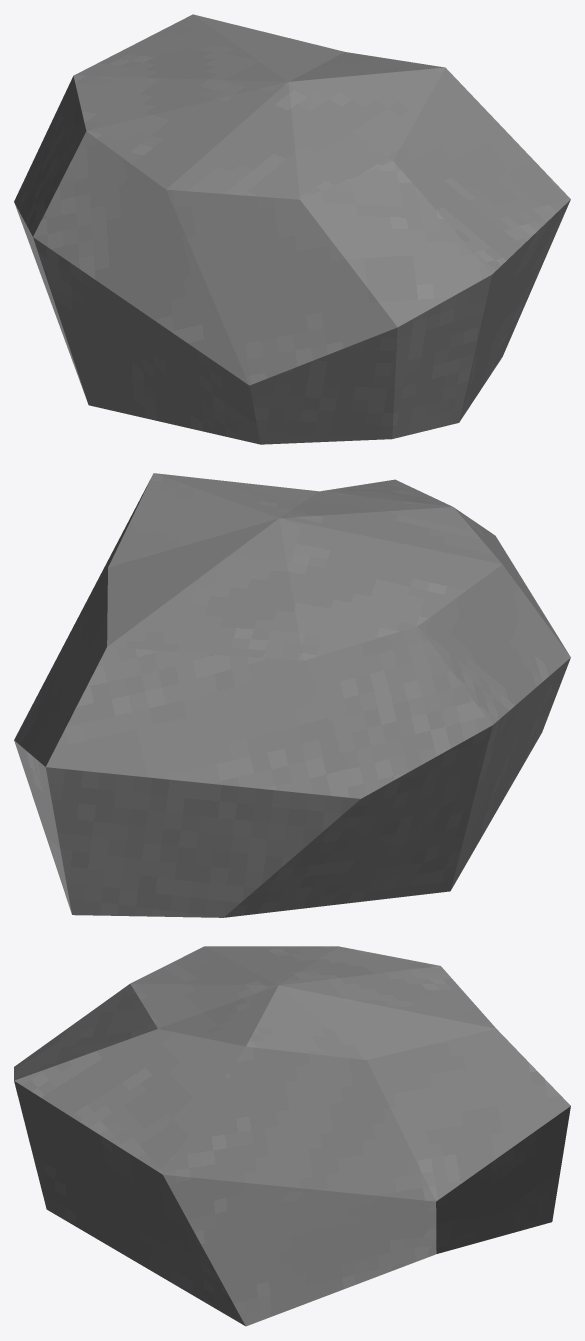
The model's file is rock.gltf.
3 views of the same model, one above another, from view 1: azimuth 30°, elevation 25°; view 2: azimuth 150°, elevation 25°; view 3: azimuth 270°, elevation 25° (orthographic). The views are drawn at different scales.
Visible parts, largest first — view 1: stone; view 2: stone; view 3: stone.
Part boxes in pixels (<box>): stone: <box>14,14,570,444</box>; stone: <box>14,473,570,917</box>; stone: <box>14,946,570,1326</box>.
Bounding box in the file's own units: 1.94 × 1.29 × 2.5.
1 material, 1 textured.
